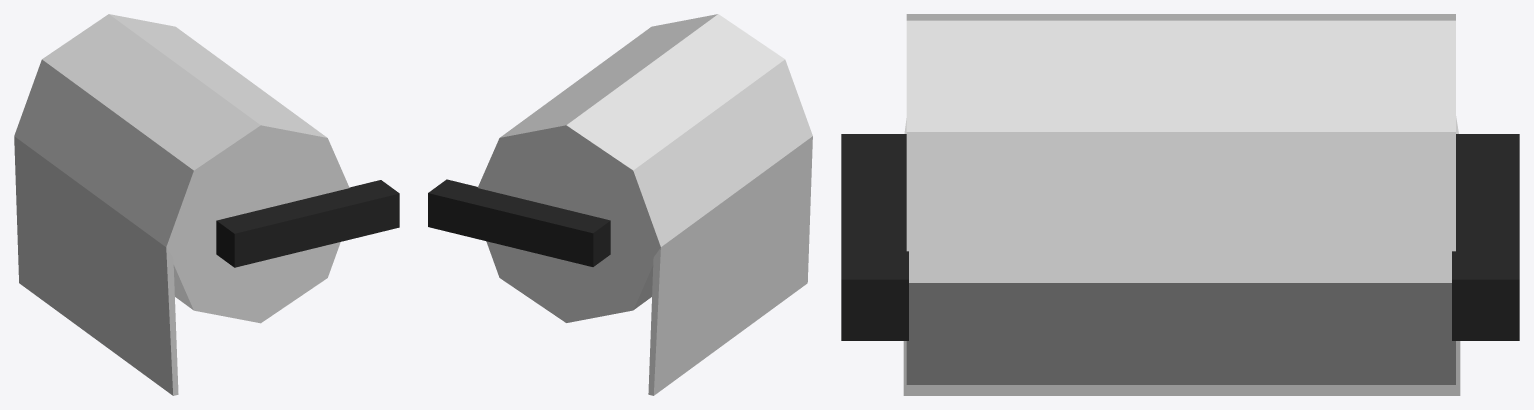
File: f_bathroom_toilet_paper.fbx
3 renders of one model, left to right at view 1: azimuth 30°, elevation 25°; view 2: azimuth 150°, elevation 25°; view 3: azimuth 270°, elevation 25°, orthographic. The views are drawn at different scales.
Visible parts, largest first — view 1: pCylinder1, pCube1, holder_left; view 2: pCylinder1, pCube1, holder_right; view 3: pCylinder1, holder_left, holder_right, pCube1.
Part boxes in pixels (x1,y1,x2,y2): pCylinder1: (14,14,349,323); pCube1: (14,136,178,395); holder_left: (216,180,399,267); pCylinder1: (477,14,812,322); pCube1: (648,136,812,395); holder_right: (428,179,610,266); pCylinder1: (906,14,1455,384); holder_left: (841,134,908,340); holder_right: (1452,134,1519,340); pCube1: (903,116,1460,395).
Bounding box in the file's own units: 13.69 × 15.09 × 20.67.
Materials: 1 (1 with a texture image).
